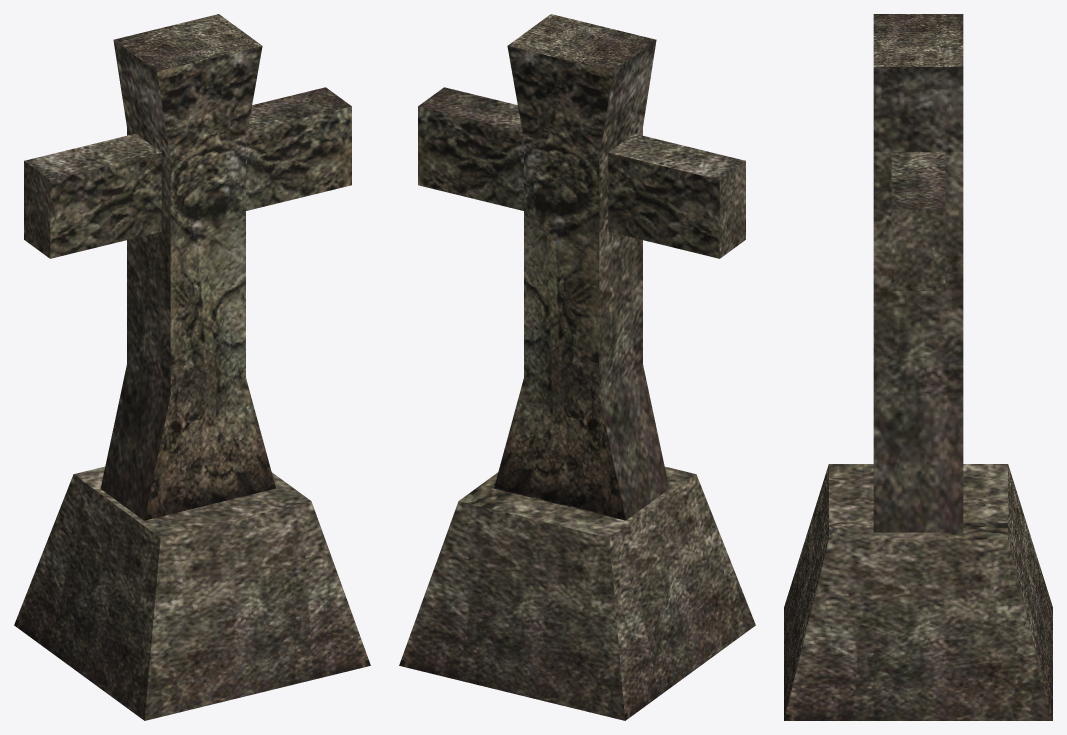
The model's file is tombstone_sm_10.fbx.
3 views of the same model, side by side, from view 1: azimuth 30°, elevation 25°; view 2: azimuth 150°, elevation 25°; view 3: azimuth 270°, elevation 25° (orthographic). The views are drawn at different scales.
Visible parts, largest first — view 1: mesh_1, mesh_0, mesh_2; view 2: mesh_1, mesh_0, mesh_2; view 3: mesh_0, mesh_1, mesh_2.
Part boxes in pixels (<box>): mesh_1: <box>100,14,275,520</box>; mesh_0: <box>14,466,370,720</box>; mesh_2: <box>24,87,351,258</box>; mesh_1: <box>494,14,669,520</box>; mesh_0: <box>399,466,755,720</box>; mesh_2: <box>418,87,745,258</box>; mesh_0: <box>784,464,1052,720</box>; mesh_1: <box>873,14,963,532</box>; mesh_2: <box>891,152,945,290</box>.
Bounding box in the file's own units: 80 × 153 × 60.
1 material, 1 textured.
